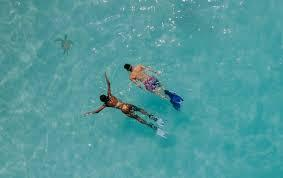swimmer: (77, 67, 176, 140), (119, 56, 189, 113), (55, 31, 78, 58)
